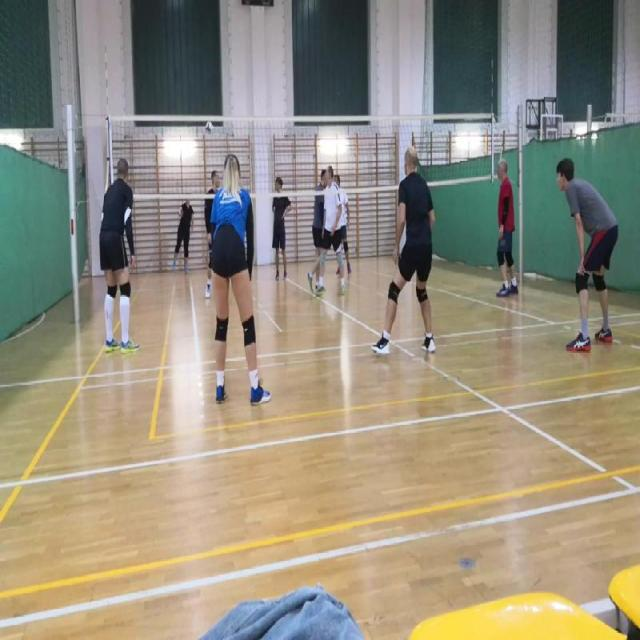volleyball: (205, 121, 212, 133)
